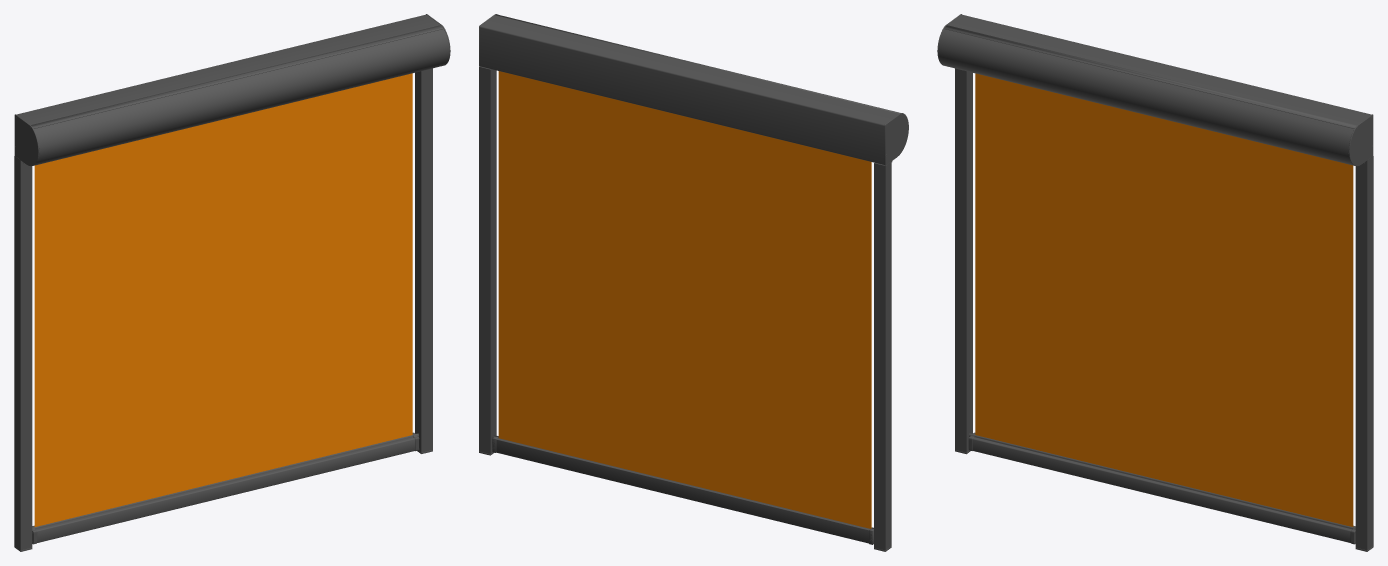
File: VS_rund.glb
3 views of the same model, side by side, from view 1: azimuth 30°, elevation 25°; view 2: azimuth 150°, elevation 25°; view 3: azimuth 330°, elevation 25° (orthographic).
Visible parts, largest first — view 1: Plane, VS-Z_FME_HCN_Contra.004, Cube.001, Cube.002, VS-Z_FME90ų_Contra.004, Plane.001, VS-Z_FME_HCN_Contra.003, Cylinder.004; view 2: Plane, Plane.001, Cube.001, Cube.002, VS-Z_FME90ų_Contra.004, Cylinder.004, VS-Z_FME_HCN_Contra.003; view 3: Plane, VS-Z_FME_HCN_Contra.004, Cube.002, Cube.001, VS-Z_FME90ų_Contra.004, Plane.001, VS-Z_FME_HCN_Contra.003, Cylinder.003.
Boxes of the visible parts, left/top/right/bottom form: Plane: left=34, top=73, right=412, bottom=526; VS-Z_FME_HCN_Contra.004: left=23, top=29, right=449, bottom=165; Cube.001: left=14, top=156, right=32, bottom=550; Cube.002: left=415, top=68, right=432, bottom=452; VS-Z_FME90ų_Contra.004: left=32, top=435, right=415, bottom=542; Plane.001: left=16, top=14, right=440, bottom=124; VS-Z_FME_HCN_Contra.003: left=31, top=25, right=443, bottom=128; Cylinder.004: left=14, top=114, right=39, bottom=166; Plane: left=498, top=71, right=871, bottom=528; Plane.001: left=480, top=15, right=898, bottom=164; Cube.001: left=874, top=161, right=891, bottom=550; Cube.002: left=479, top=66, right=496, bottom=453; VS-Z_FME90ų_Contra.004: left=496, top=436, right=871, bottom=543; Cylinder.004: left=884, top=113, right=908, bottom=165; VS-Z_FME_HCN_Contra.003: left=495, top=14, right=900, bottom=113; Plane: left=975, top=73, right=1353, bottom=526; VS-Z_FME_HCN_Contra.004: left=938, top=29, right=1364, bottom=165; Cube.002: left=1355, top=156, right=1373, bottom=550; Cube.001: left=955, top=68, right=972, bottom=452; VS-Z_FME90ų_Contra.004: left=972, top=435, right=1355, bottom=542; Plane.001: left=947, top=14, right=1371, bottom=124; VS-Z_FME_HCN_Contra.003: left=944, top=25, right=1356, bottom=128; Cylinder.003: left=1348, top=114, right=1373, bottom=166.
Bounding box in the file's own units: 1.99 × 2 × 0.2006.
3 materials, 1 textured.
